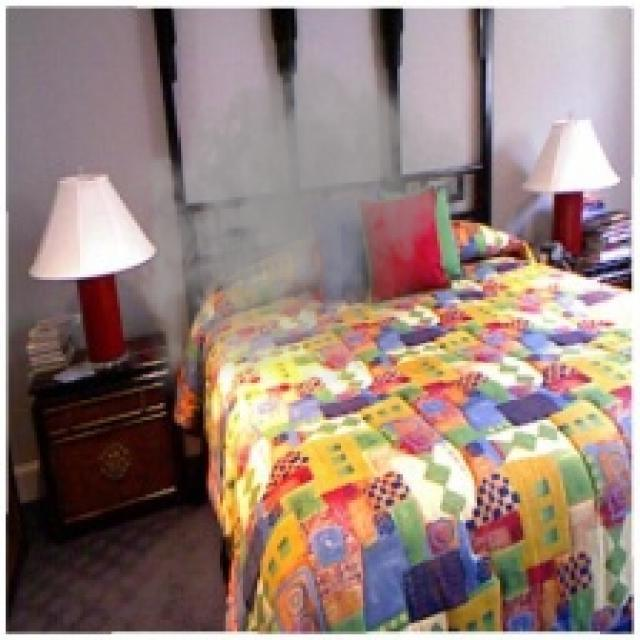Smoke: (123, 31, 480, 406)
